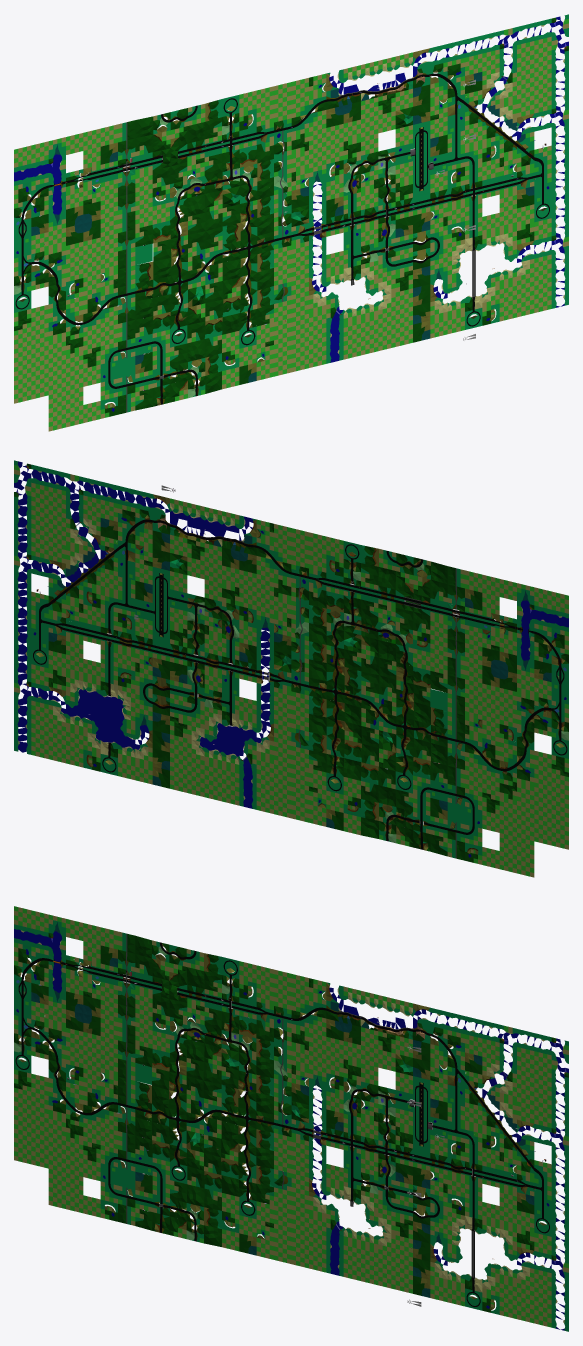
Rendered from Cape_Cod_Course_4.obj.
The picture shows the model from 3 angles, top to bottom: view 1: azimuth 30°, elevation 25°; view 2: azimuth 150°, elevation 25°; view 3: azimuth 330°, elevation 25°; orthographic projection.
Bounding box in the file's own units: 131 × 65.54 × 16.64.
